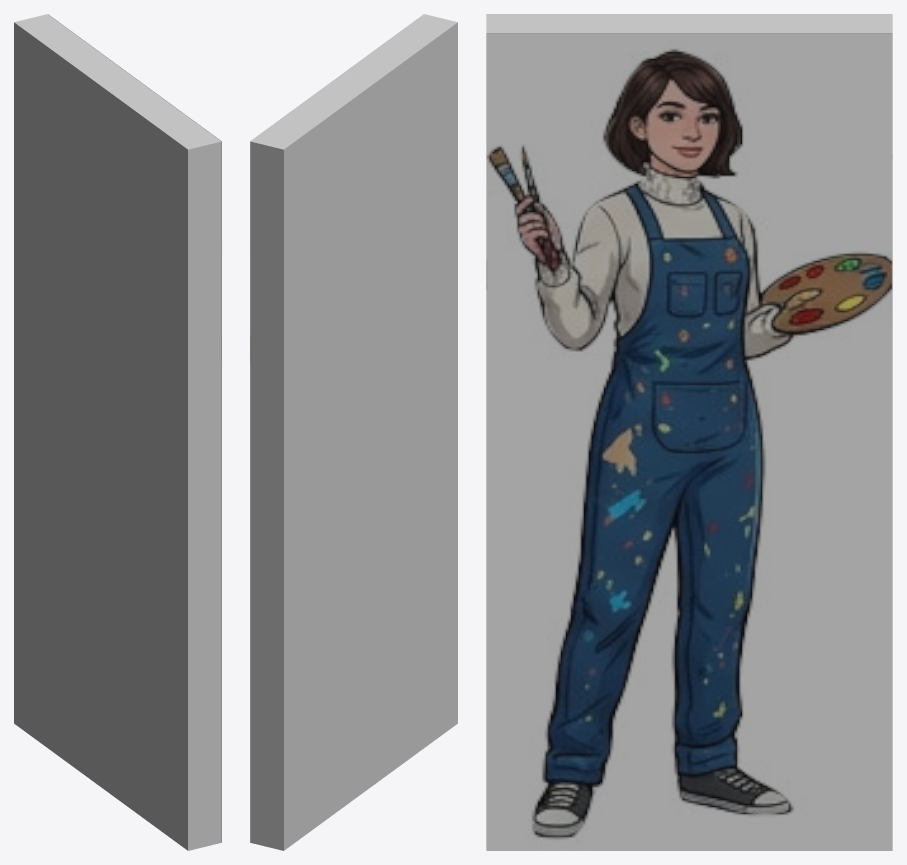
3 renders of one model, left to right at view 1: azimuth 30°, elevation 25°; view 2: azimuth 150°, elevation 25°; view 3: azimuth 270°, elevation 25°, orthographic. The views are drawn at different scales.
Visible parts, largest first — view 1: 立方体, 平面; view 2: 立方体, 平面; view 3: 平面, 立方体.
Boxes of the visible parts, x1=… form: 立方体: x1=14, y1=14, x2=221, y2=850; 平面: x1=48, y1=14, x2=221, y2=842; 立方体: x1=250, y1=14, x2=457, y2=850; 平面: x1=250, y1=14, x2=423, y2=842; 平面: x1=486, y1=33, x2=892, y2=850; 立方体: x1=486, y1=14, x2=892, y2=33.
Size of the model in its own units: 0.0101 by 0.09 by 0.2.
Materials: 1 (1 with a texture image).
